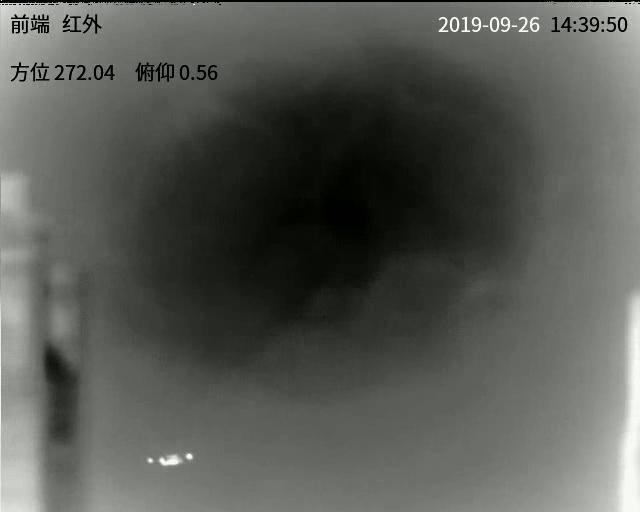DRONE: (146, 452, 195, 468)
